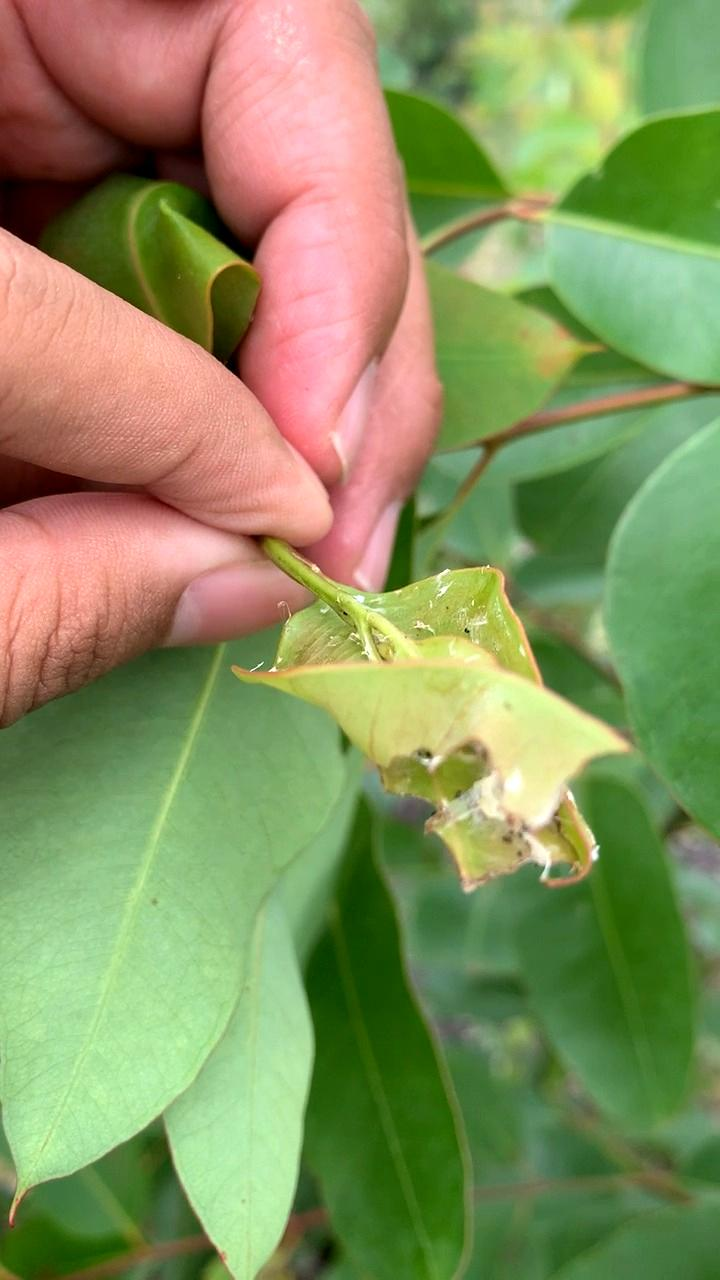Leaf Roller - Leaf: (223, 543, 643, 907)
